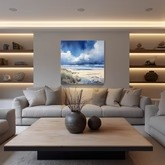painting: (60, 39, 105, 85)
